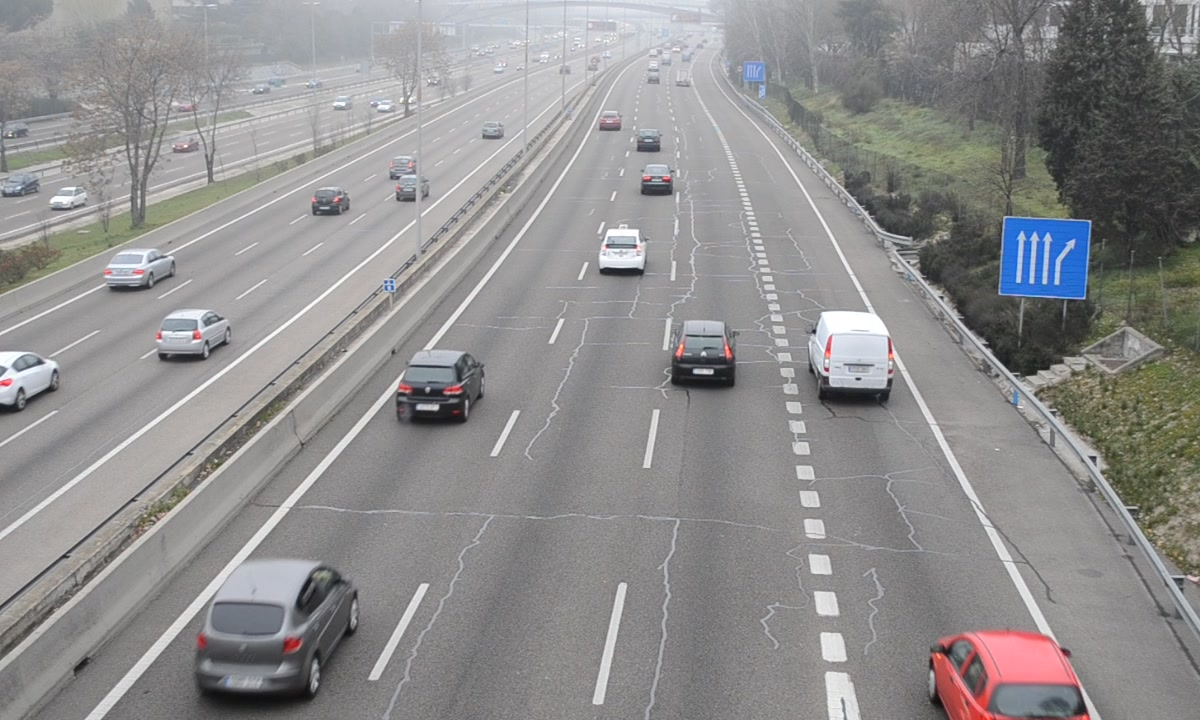car: (195, 559, 361, 695), (932, 629, 1098, 720), (395, 350, 485, 420), (672, 320, 735, 384), (597, 228, 645, 273), (640, 163, 673, 198), (635, 126, 662, 152), (598, 109, 620, 131)
van: (812, 310, 894, 399)
